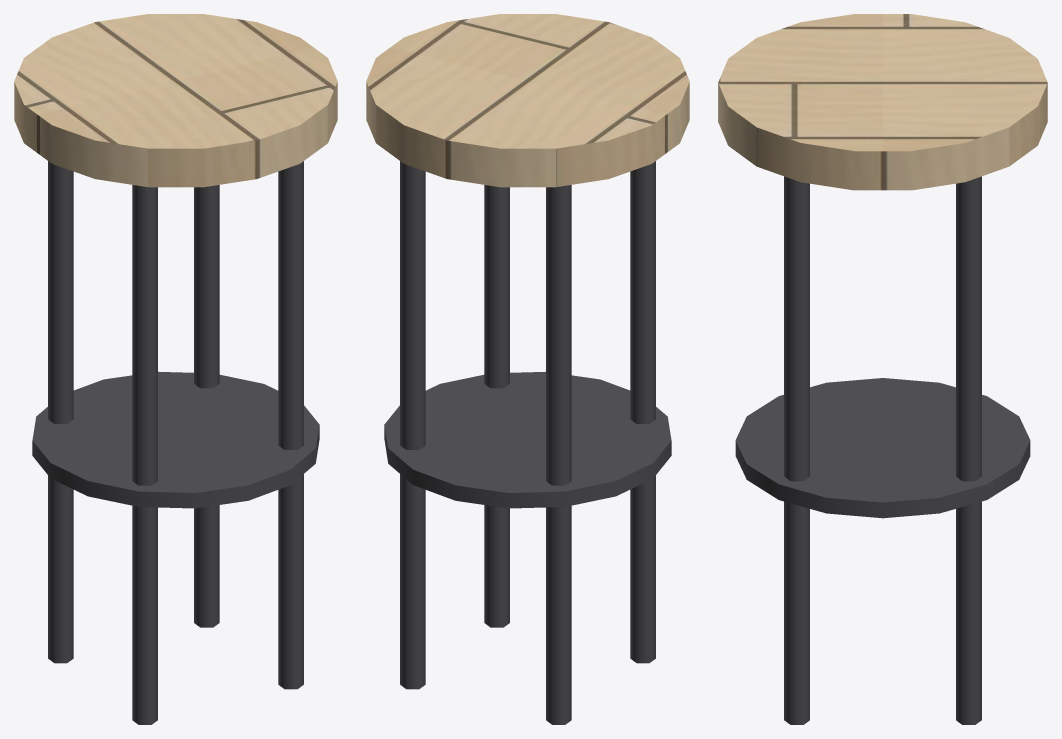
3 renders of one model, left to right at view 1: azimuth 30°, elevation 25°; view 2: azimuth 150°, elevation 25°; view 3: azimuth 270°, elevation 25°, orthographic.
Visible parts, largest first — view 1: Decor_bar_stool; view 2: Decor_bar_stool; view 3: Decor_bar_stool.
Part boxes in pixels (bbox=[...]): Decor_bar_stool: bbox=[14, 14, 337, 724]; Decor_bar_stool: bbox=[366, 14, 689, 724]; Decor_bar_stool: bbox=[718, 14, 1047, 724].
Size of the model in its own units: 0.3742 by 0.765 by 0.38.
2 materials, 1 textured.
